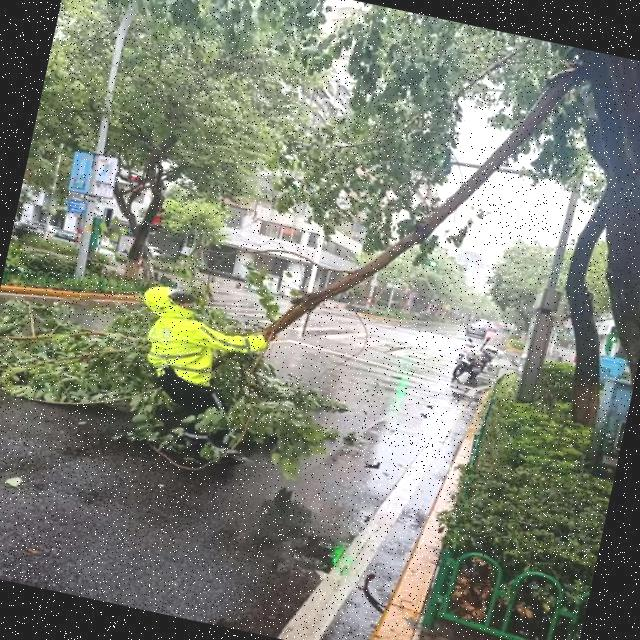fallen_object: (0, 0, 586, 530)
